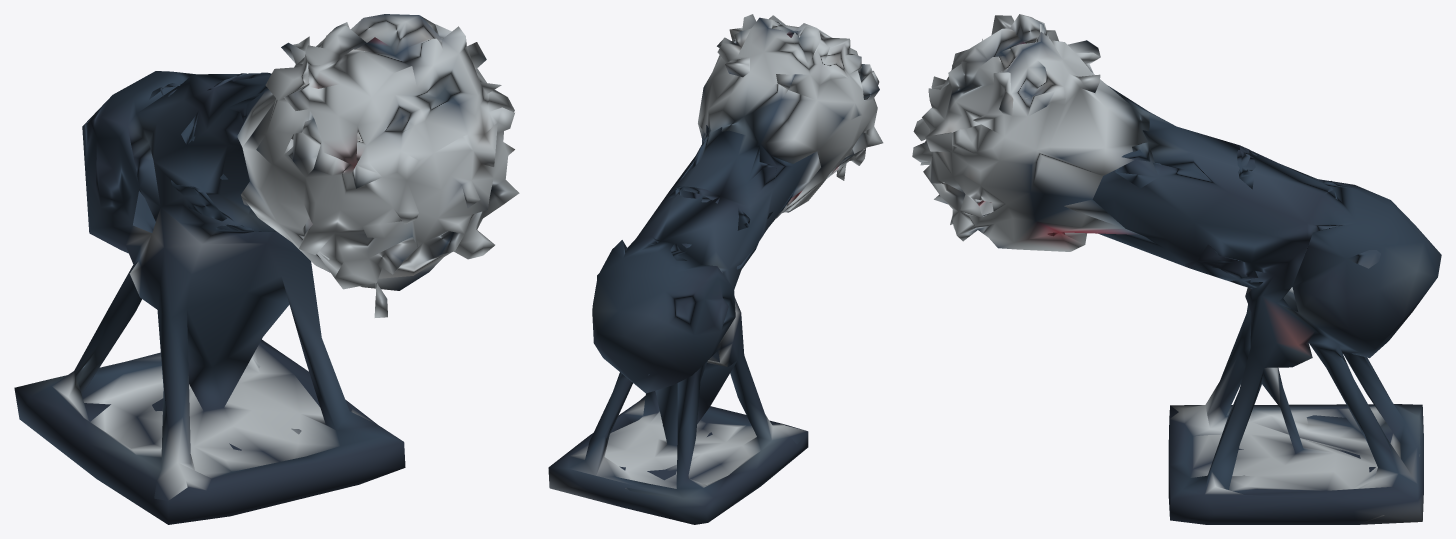
Rendered from gen3d-snow-cannon-lod0.glb.
3 views of the same model, side by side, from view 1: azimuth 30°, elevation 25°; view 2: azimuth 150°, elevation 25°; view 3: azimuth 270°, elevation 25° (orthographic). The views are drawn at different scales.
Parts seen in each view (by area): view 1: part_0; view 2: part_0; view 3: part_0.
Part boxes in pixels (x1,y1,x2,y2): part_0: (14, 14, 519, 524); part_0: (548, 14, 883, 524); part_0: (912, 14, 1441, 524).
Bounding box in the file's own units: 0.4576 × 1 × 1.07.
